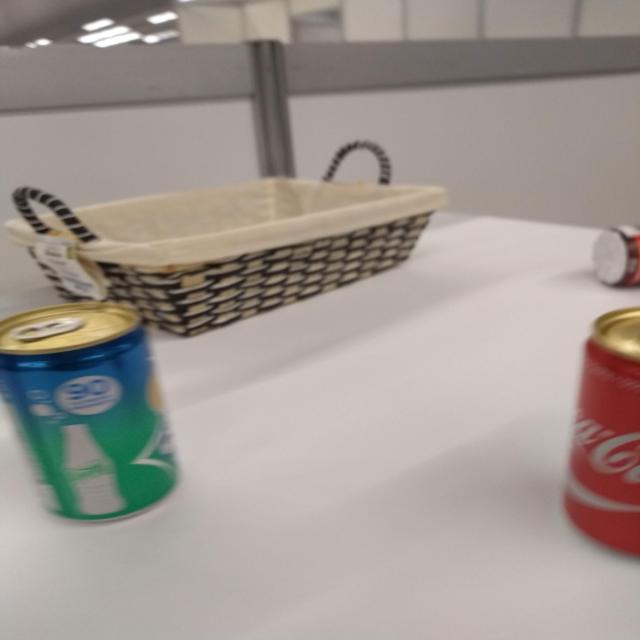basket: (3, 135, 449, 343)
